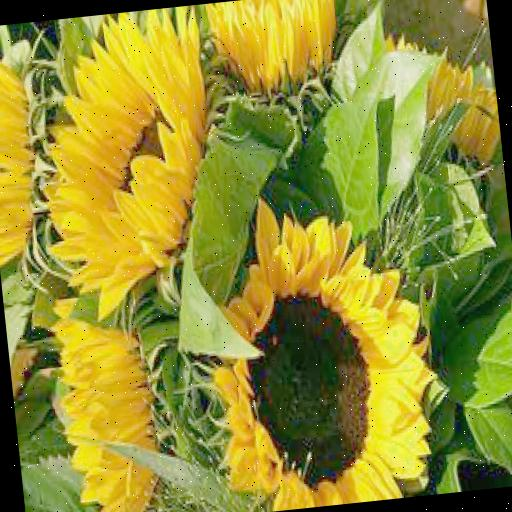sunflower: (194, 197, 443, 512), (50, 312, 165, 512), (0, 56, 50, 265)
